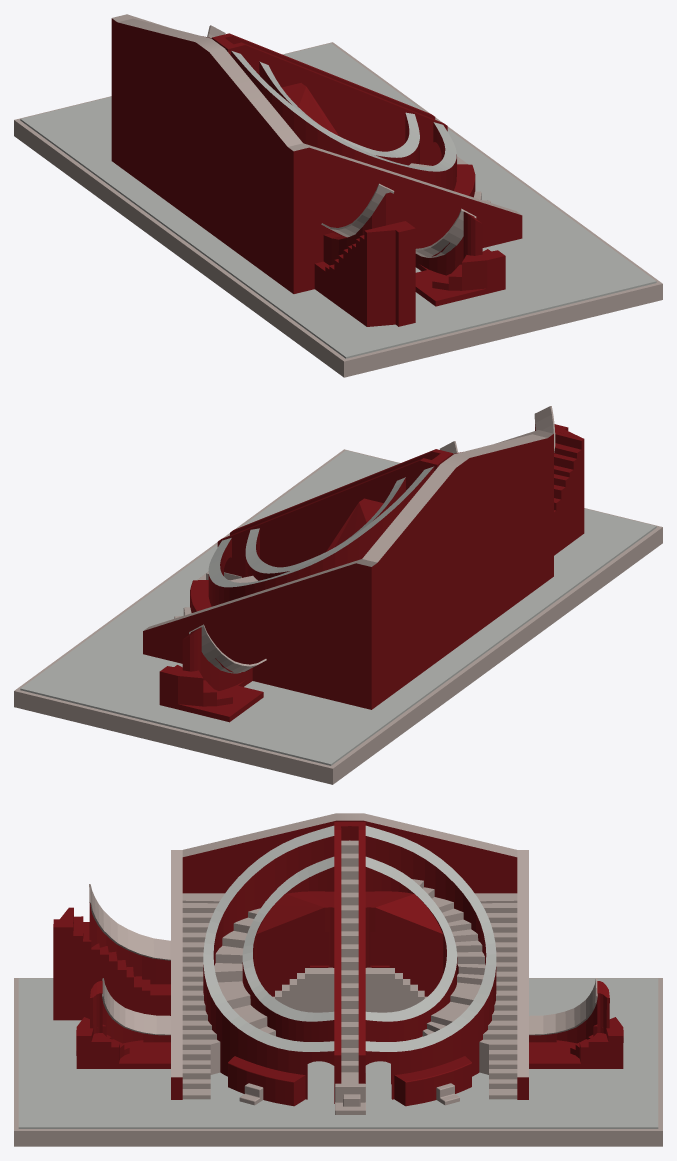
The model's file is jantar-mantar.glb.
The picture shows the model from 3 angles, top to bottom: view 1: azimuth 30°, elevation 25°; view 2: azimuth 150°, elevation 25°; view 3: azimuth 270°, elevation 25°; orthographic projection.
Parts seen in each view (by area): view 1: main _structure.001, Foundation top course, Foundation plinth, gaurd_rail, Plane, bigger_arc, Cube, smaller_arc, Cube.002, Circle, inside_door, Cube.001 (+2 smaller); view 2: main _structure.001, Foundation top course, Foundation plinth, gaurd_rail, bigger_arc, Cube, Plane, smaller_arc, Circle, inside_door, Cube.001, front_extrude; view 3: Foundation top course, bigger_arc, inside_door, main _structure.001, Foundation plinth, side_stairs, smaller_arc, Cube, Plane, front_extrude, gaurd_rail, stairs (+8 smaller).
Boxes of the visible parts, x1,y1,x2,y2 form: main _structure.001: [111, 14, 522, 293]; Foundation top course: [20, 43, 656, 358]; Foundation plinth: [14, 42, 662, 377]; gaurd_rail: [212, 33, 447, 165]; Plane: [314, 221, 415, 326]; bigger_arc: [203, 36, 456, 190]; Cube: [415, 211, 505, 306]; smaller_arc: [259, 61, 419, 165]; Cube.002: [323, 191, 394, 265]; Circle: [207, 25, 476, 257]; inside_door: [281, 83, 338, 135]; Cube.001: [415, 236, 463, 275]; main _structure.001: [143, 430, 553, 709]; Foundation top course: [20, 450, 656, 765]; Foundation plinth: [14, 449, 662, 784]; gaurd_rail: [217, 449, 453, 577]; bigger_arc: [208, 452, 460, 606]; Cube: [159, 627, 263, 722]; Plane: [554, 424, 584, 555]; smaller_arc: [245, 477, 405, 580]; Circle: [189, 441, 458, 673]; inside_door: [326, 498, 383, 551]; Cube.001: [191, 632, 252, 690]; front_extrude: [190, 580, 211, 612]; Foundation top course: [18, 978, 658, 1128]; bigger_arc: [203, 825, 496, 1099]; inside_door: [256, 891, 443, 1012]; main _structure.001: [171, 813, 528, 1099]; Foundation plinth: [14, 978, 662, 1146]; side_stairs: [182, 893, 517, 1099]; smaller_arc: [242, 856, 457, 1084]; Cube: [76, 981, 623, 1068]; Plane: [53, 907, 170, 1020]; front_extrude: [228, 1056, 471, 1106]; gaurd_rail: [334, 822, 365, 1103]; stairs: [341, 840, 358, 1072].
Size of the model in its own units: 15.5 by 9.21 by 27.8.
